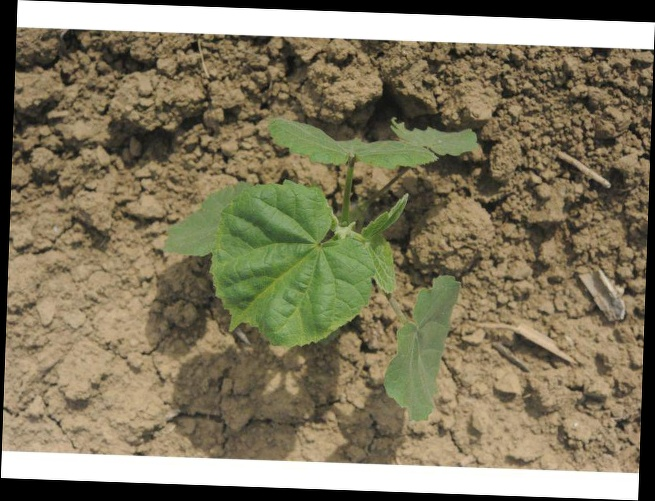velvet: (160, 119, 474, 417)
